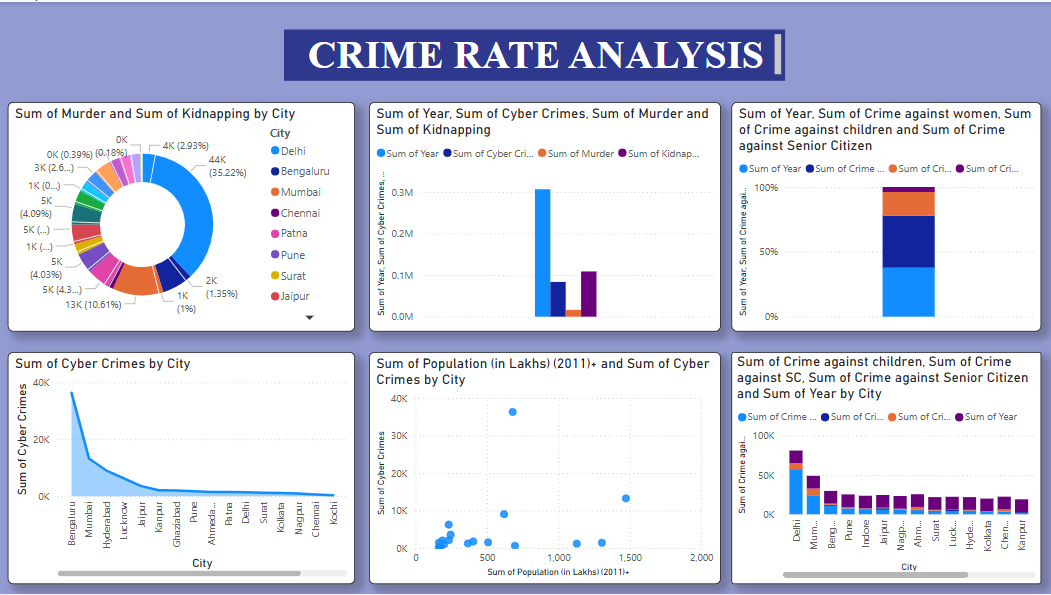

What the dashboard file says about the page in this screenshot:
{"tool":"powerbi","page":{"name":"Page 1","canvas":[1280,720],"ordinal":0},"visuals":[{"type":"clusteredColumnChart","fields":{"Y":["Sum(crime_rate_cleaned.Year)","Sum(crime_rate_cleaned.Cyber Crimes)","Sum(crime_rate_cleaned.Murder)","Sum(crime_rate_cleaned.Kidnapping)"]},"box":[450.1,121,428.3,279.3],"z":0},{"type":"areaChart","fields":{"Category":["crime_rate_cleaned.City"],"Y":["Sum(crime_rate_cleaned.Cyber Crimes)"]},"box":[10.9,425.2,422.1,282.4],"z":1000},{"type":"scatterChart","fields":{"X":["Sum(crime_rate_cleaned.Population (in Lakhs) (2011)+)"],"Y":["Sum(crime_rate_cleaned.Cyber Crimes)"],"Category":["crime_rate_cleaned.City"]},"box":[450.1,425.2,428.3,282.4],"z":2000},{"type":"hundredPercentStackedColumnChart","fields":{"Y":["Sum(crime_rate_cleaned.Year)","Sum(crime_rate_cleaned.Crime against women)","Sum(crime_rate_cleaned.Crime against children)","Sum(crime_rate_cleaned.Crime against Senior Citizen)"]},"box":[890.8,121,377.1,279.3],"z":3000},{"type":"donutChart","fields":{"Y":["Sum(crime_rate_cleaned.Murder)","Sum(crime_rate_cleaned.Kidnapping)"],"Category":["crime_rate_cleaned.City"]},"box":[10.9,121,422.1,279.3],"z":4000},{"type":"textbox","box":[346.1,34.1,609.9,62.1],"z":6000},{"type":"lineStackedColumnComboChart","fields":{"Category":["crime_rate_cleaned.City"],"Y":["Sum(crime_rate_cleaned.Crime against children)","Sum(crime_rate_cleaned.Crime against SC)","Sum(crime_rate_cleaned.Crime against Senior Citizen)","Sum(crime_rate_cleaned.Year)"]},"box":[891,425,377,282],"z":6001}]}

Visuals, with their boxes in screenshot pixels (x1, y1, x2, y2), scaled from the page's 1280x720 canvas onto the 1051x595 screenshot:
clusteredColumnChart - Sum(crime_rate_cleaned.Year) x Sum(crime_rate_cleaned.Cyber Crimes): box(370, 100, 721, 331)
areaChart - crime_rate_cleaned.City x Sum(crime_rate_cleaned.Cyber Crimes): box(9, 351, 356, 585)
scatterChart - Sum(crime_rate_cleaned.Population (in Lakhs) (2011)+) x Sum(crime_rate_cleaned.Cyber Crimes): box(370, 351, 721, 585)
hundredPercentStackedColumnChart - Sum(crime_rate_cleaned.Year) x Sum(crime_rate_cleaned.Crime against women): box(731, 100, 1041, 331)
donutChart - Sum(crime_rate_cleaned.Murder) x Sum(crime_rate_cleaned.Kidnapping): box(9, 100, 356, 331)
textbox: box(284, 28, 785, 79)
lineStackedColumnComboChart - crime_rate_cleaned.City x Sum(crime_rate_cleaned.Crime against children): box(732, 351, 1041, 584)
